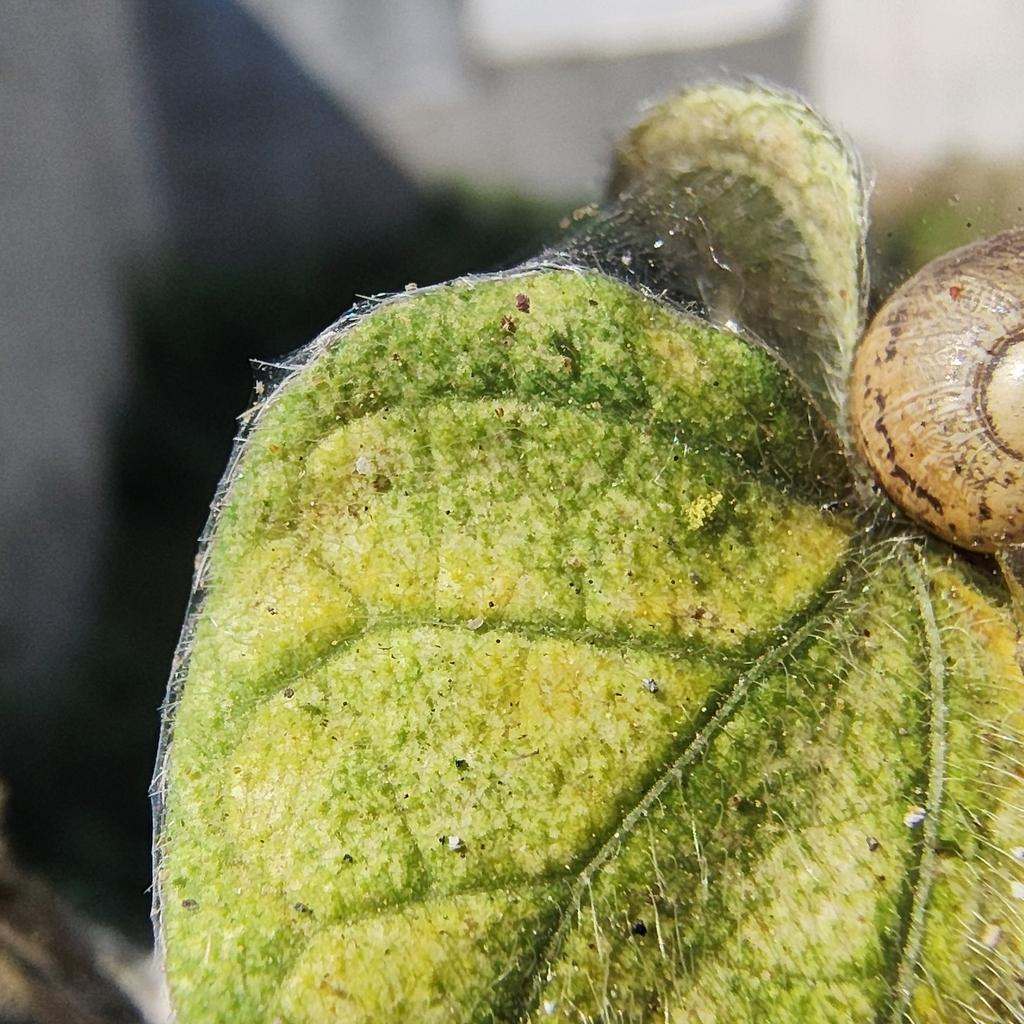tiny_pests: (494, 277, 545, 345)
